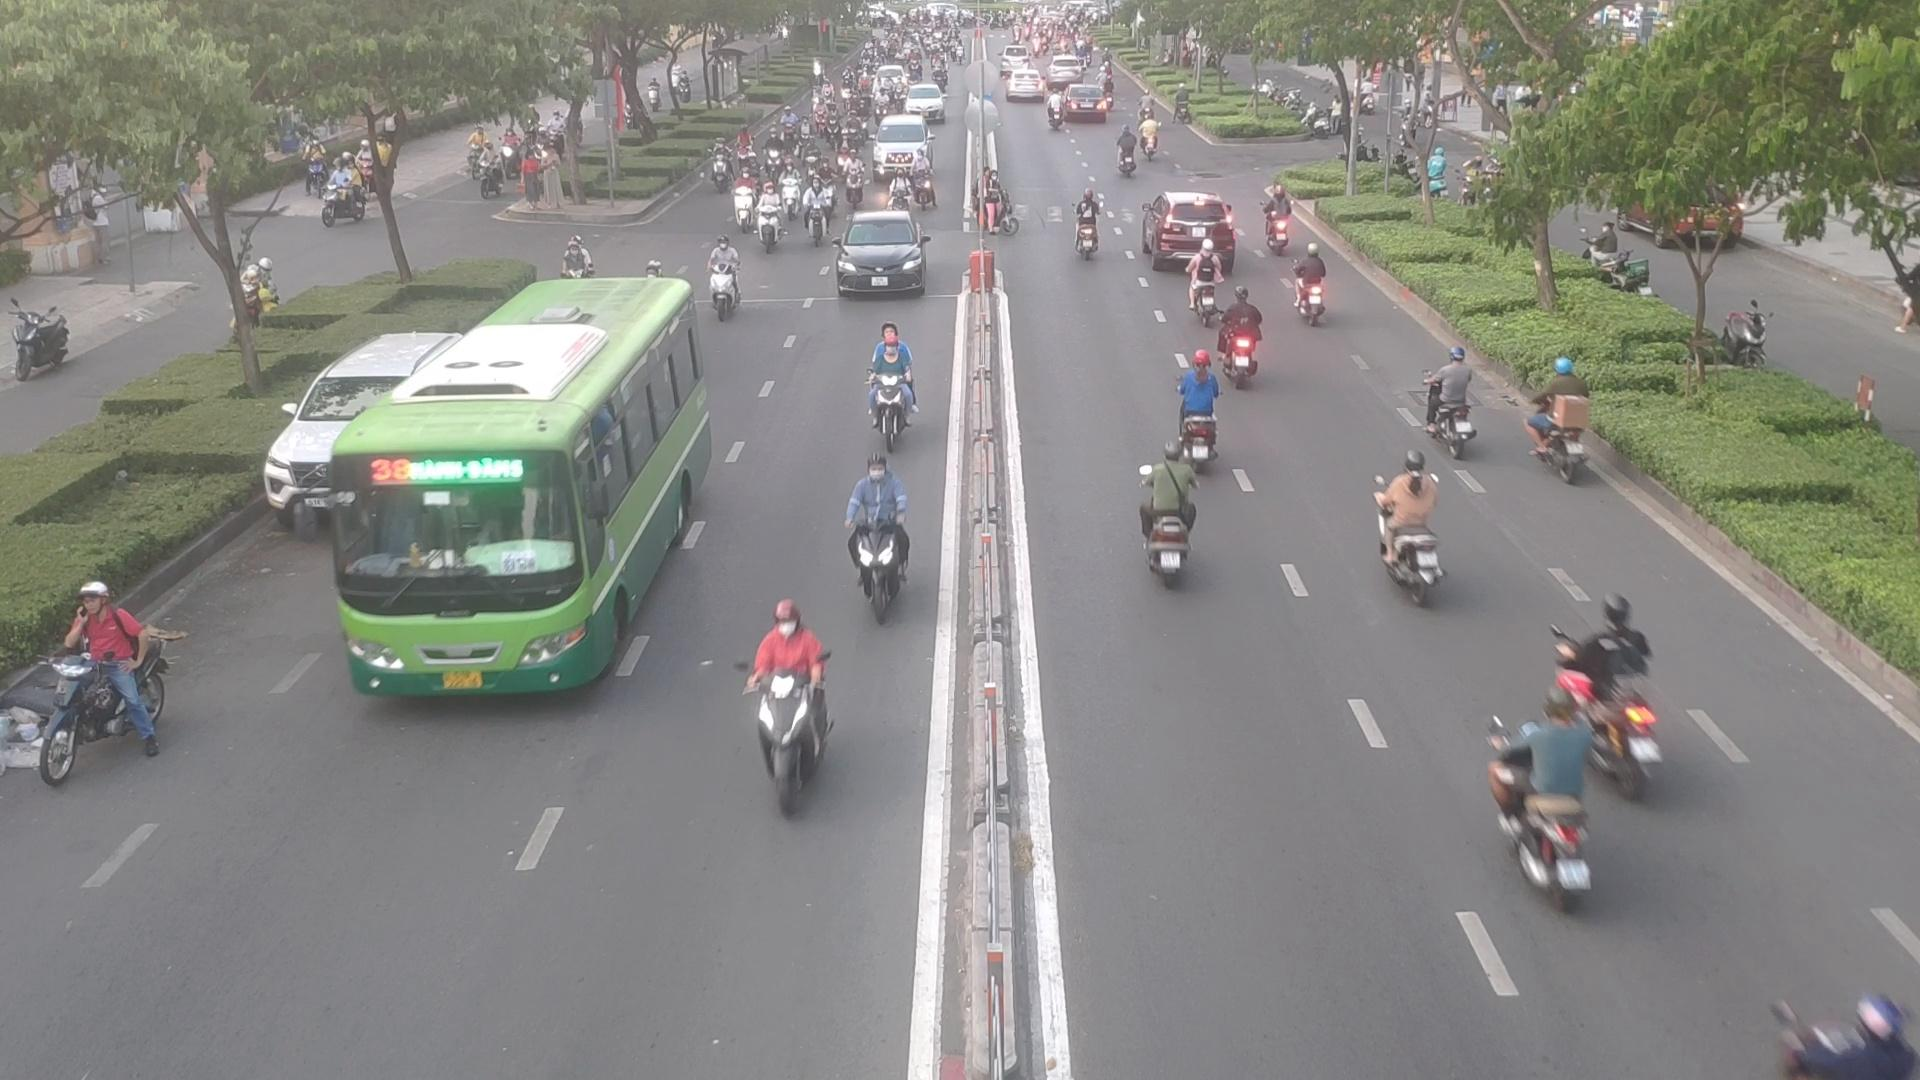bus: (338, 280, 699, 704)
car: (829, 214, 928, 298), (1137, 191, 1234, 270)
motorbike: (26, 587, 170, 765), (1480, 707, 1609, 901), (1561, 617, 1683, 796), (750, 609, 843, 802), (1764, 985, 1920, 1080), (1379, 468, 1466, 604), (1516, 355, 1604, 484), (843, 465, 913, 622), (1127, 451, 1203, 583), (1419, 344, 1490, 451), (1170, 351, 1230, 467), (860, 332, 916, 435), (1216, 291, 1276, 380), (1288, 253, 1332, 328), (704, 241, 746, 316), (1065, 189, 1108, 260), (1191, 233, 1221, 323), (748, 203, 785, 255), (1106, 135, 1143, 178), (909, 166, 940, 211), (839, 156, 866, 204), (866, 146, 895, 189)
